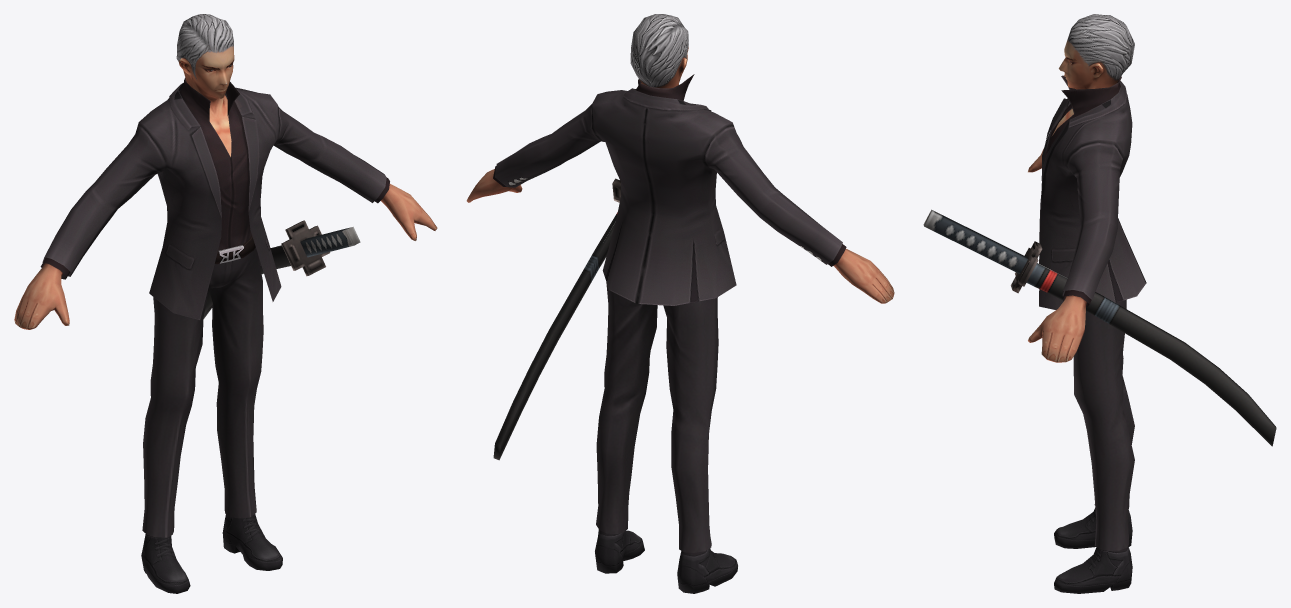
3 views of the same model, side by side, from view 1: azimuth 30°, elevation 25°; view 2: azimuth 150°, elevation 25°; view 3: azimuth 270°, elevation 25° (orthographic).
Parts seen in each view (by area): view 1: Kaiken_body; view 2: Kaiken_body; view 3: Kaiken_body.
Boxes of the visible parts, x1,y1,x2,y2 form: Kaiken_body: [14, 14, 437, 593]; Kaiken_body: [466, 14, 894, 593]; Kaiken_body: [923, 14, 1276, 593].
Bounding box in the file's own units: 1.53 × 1.92 × 1.13.
Materials: 1 (1 with a texture image).
